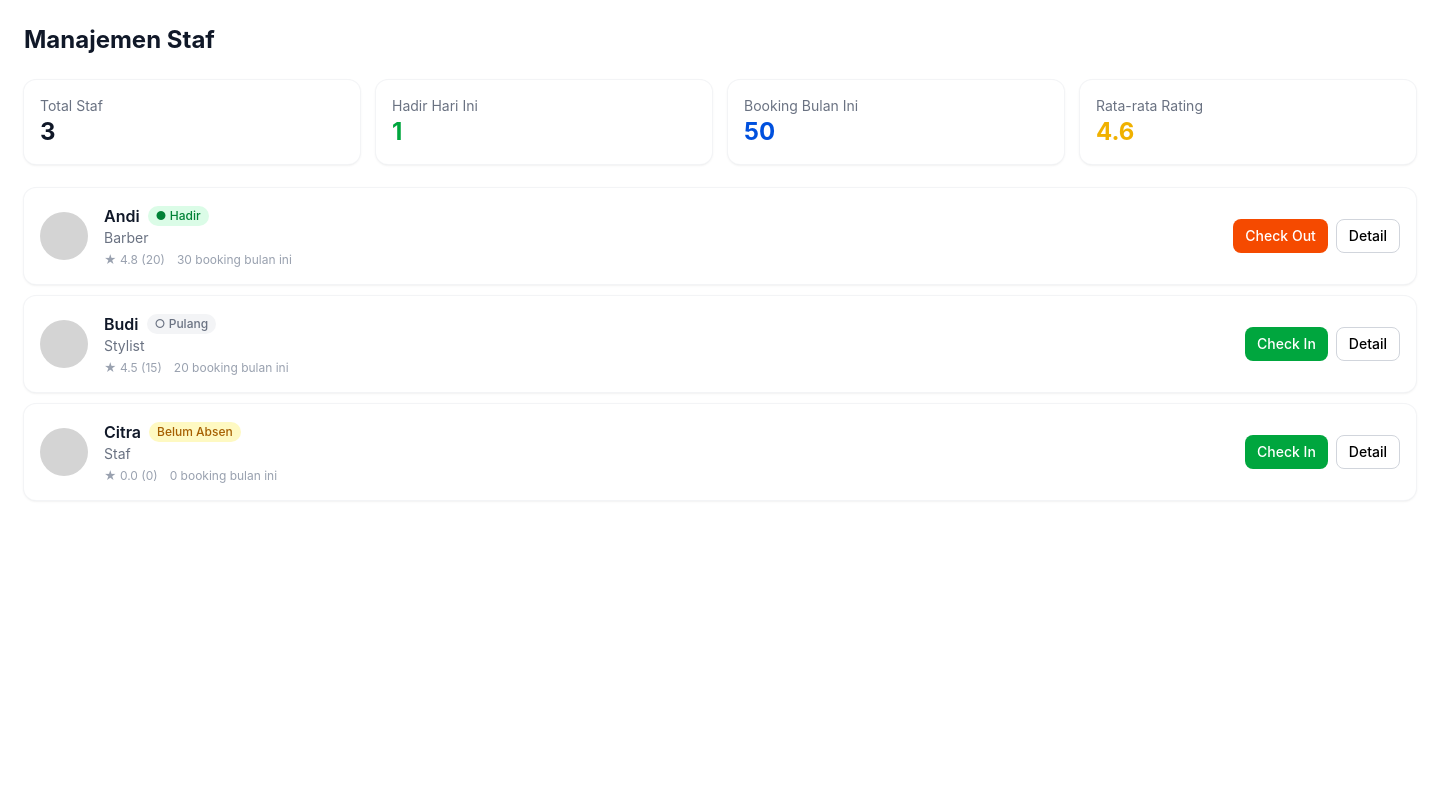
Scenario: StaffManagementSuitePage › detail button expands and shows stats
Expected: the heading "Andi" is shown, [104, 204, 140, 228]
Step 1. Click the button "Detail" in the row of "● Hadir" → click(1368, 236), box [1336, 219, 1400, 253]
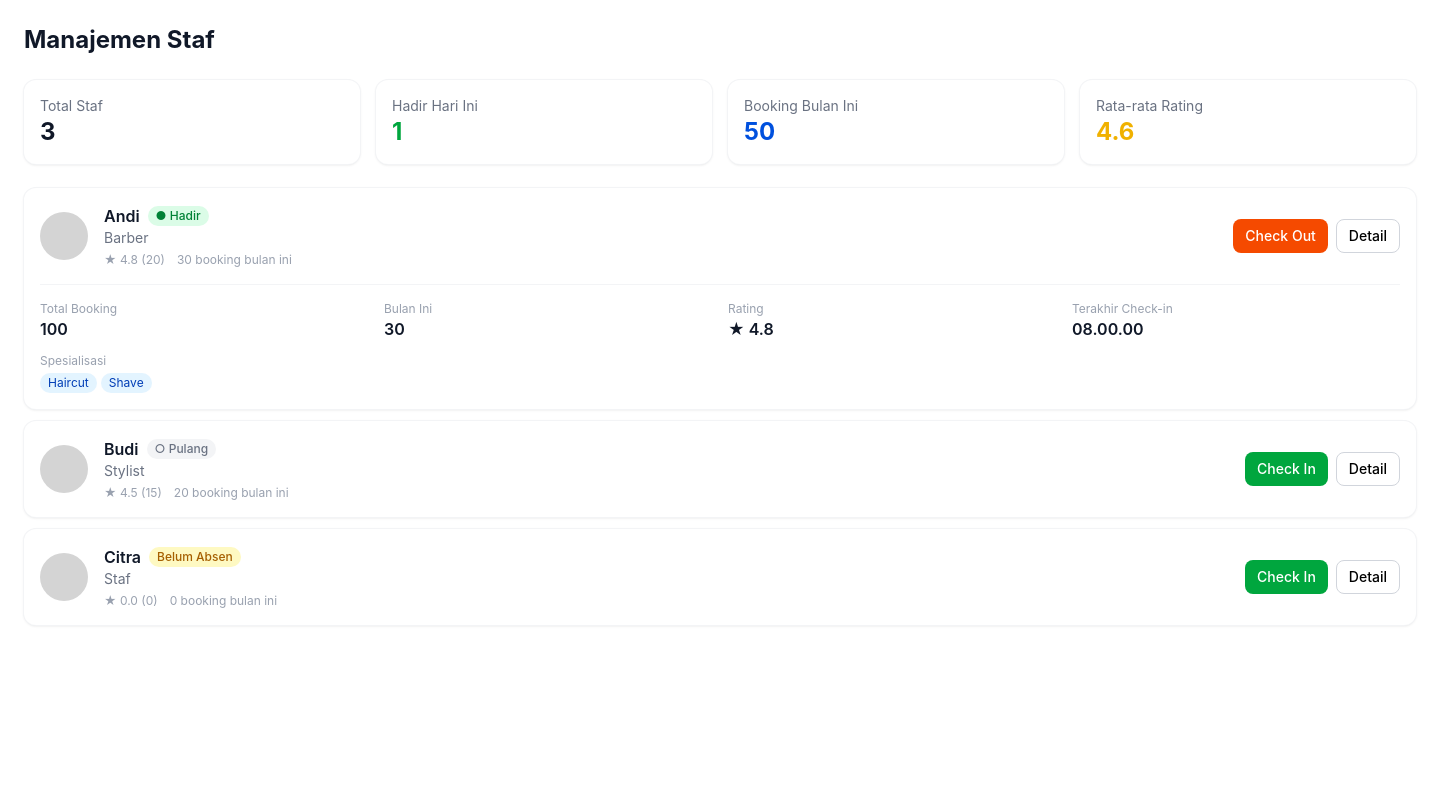
Result: the text "Total Booking" is shown at [40, 301, 117, 316]
Result: the text "100" is shown at [40, 319, 68, 339]
Result: the text "Bulan Ini" is shown at [384, 301, 432, 316]
